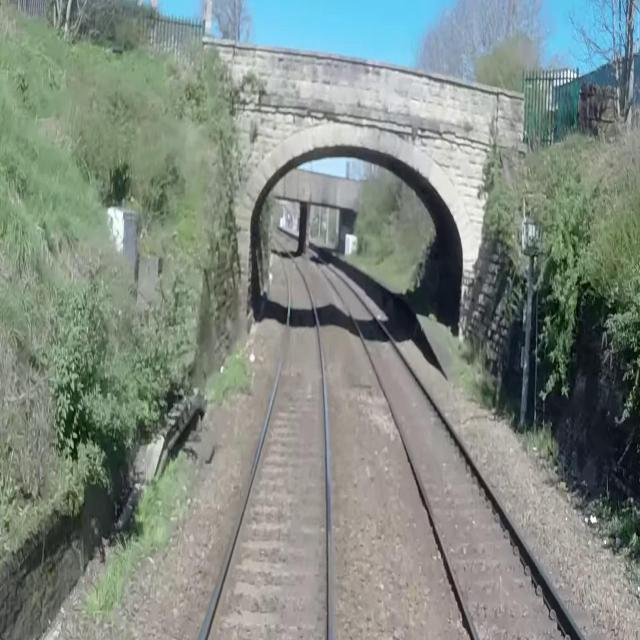rail-track: (309, 249, 580, 639), (205, 236, 327, 639)
